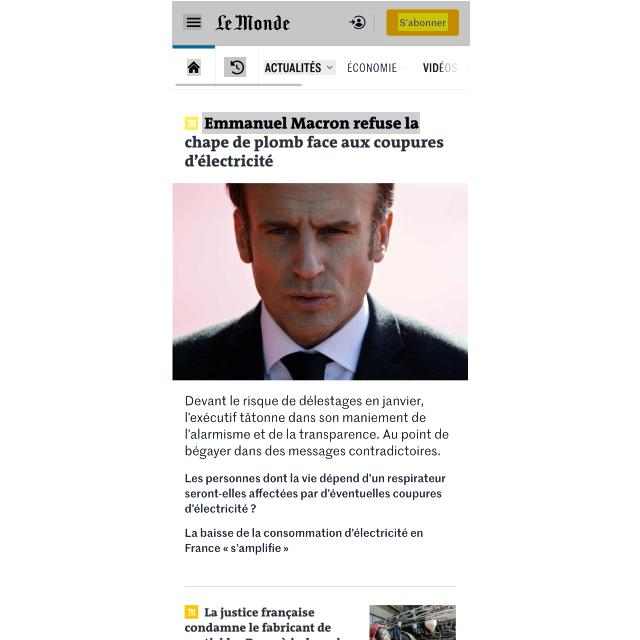CheckBox: (387, 9, 459, 36)
Input field: (183, 392, 455, 561)
alert: (346, 56, 412, 76), (264, 60, 336, 75)
bag: (172, 1, 470, 46)
carousel: (224, 57, 246, 77), (347, 14, 368, 32), (183, 114, 199, 131), (187, 59, 201, 76)
data feed: (398, 13, 448, 31)
date picker: (215, 9, 292, 37)
decoration: (262, 56, 472, 79), (183, 14, 202, 30)
image: (202, 112, 420, 134)
